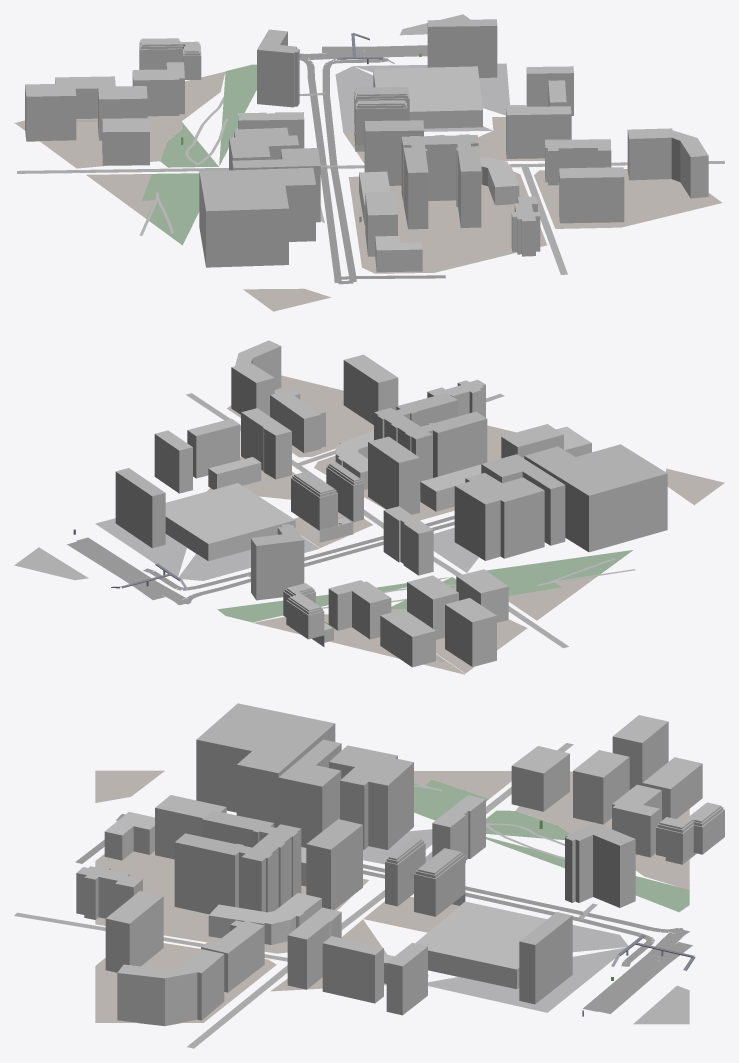
3 views of the same model, one above another, from view 1: azimuth 30°, elevation 25°; view 2: azimuth 150°, elevation 25°; view 3: azimuth 270°, elevation 25° (orthographic). The views are drawn at different scales.
Size of the model in its own units: 607 by 62.47 by 598.
